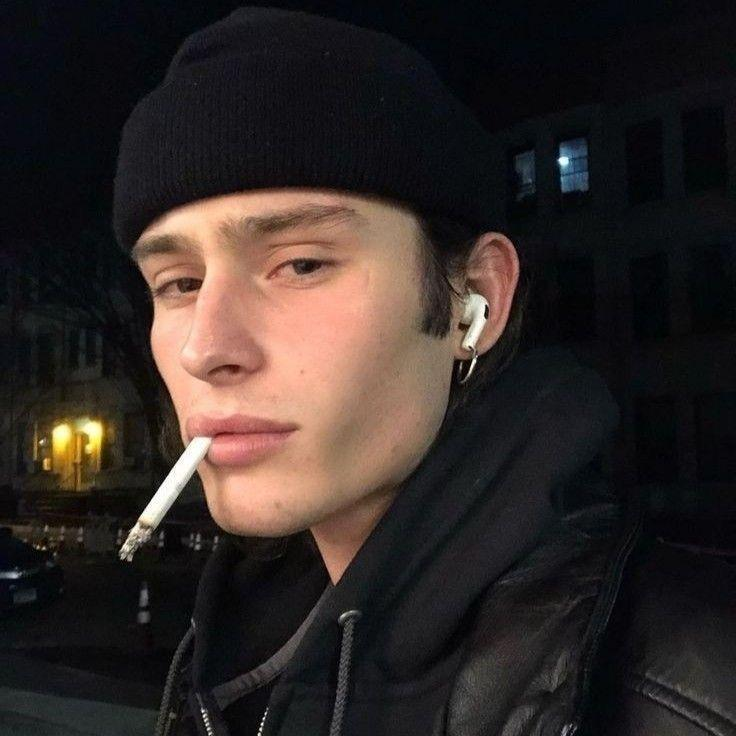cigarette: (117, 435, 212, 561)
